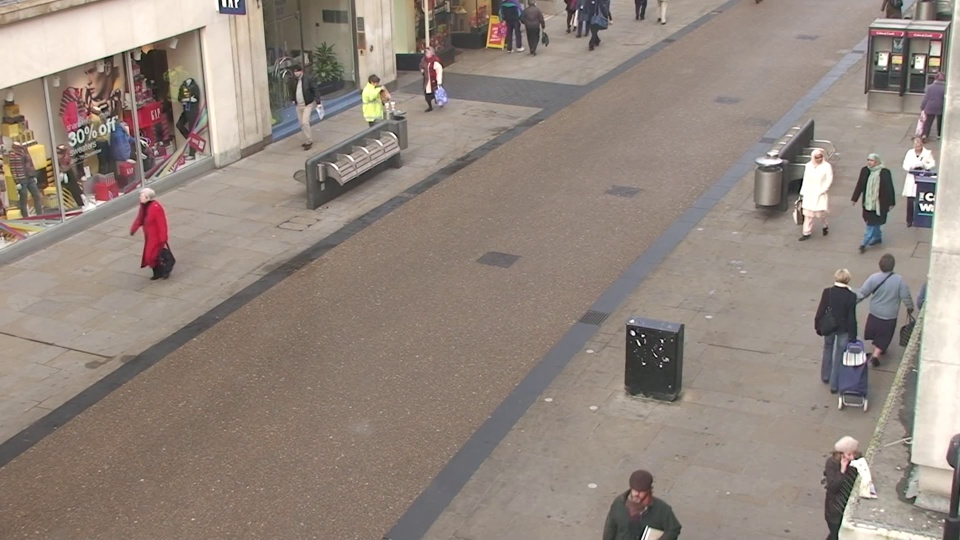pedestrian: (812, 424, 877, 540), (856, 249, 909, 382), (813, 261, 864, 396), (128, 183, 175, 293), (891, 134, 937, 238), (849, 150, 893, 257), (608, 464, 668, 540), (797, 144, 836, 248), (913, 67, 957, 155), (360, 71, 391, 154), (286, 61, 316, 140), (418, 44, 445, 119)
